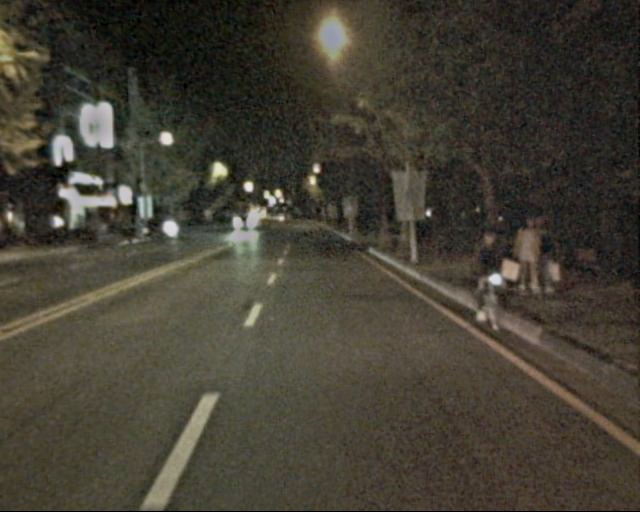person: (466, 230, 510, 325), (511, 216, 546, 293), (524, 215, 557, 289)
